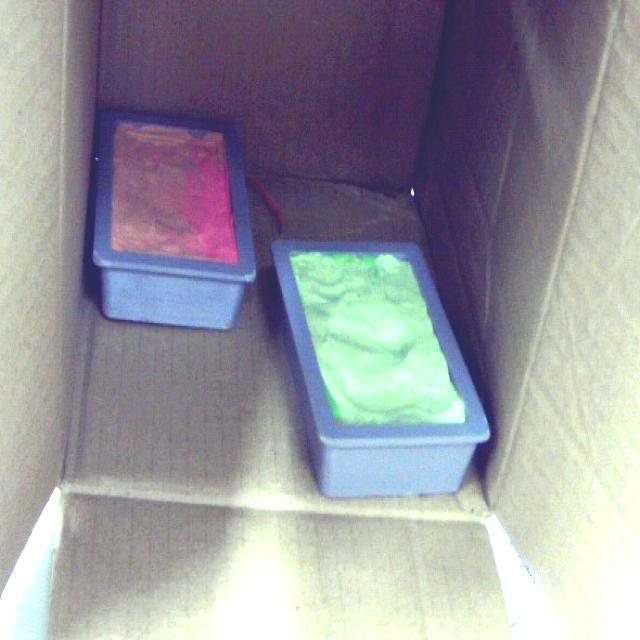block: (264, 234, 492, 497), (89, 107, 261, 330)
